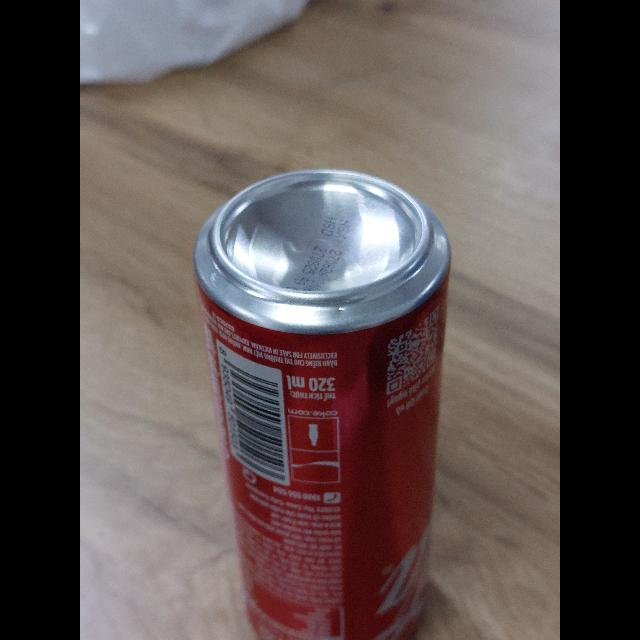coca_cola: (193, 170, 452, 640)
